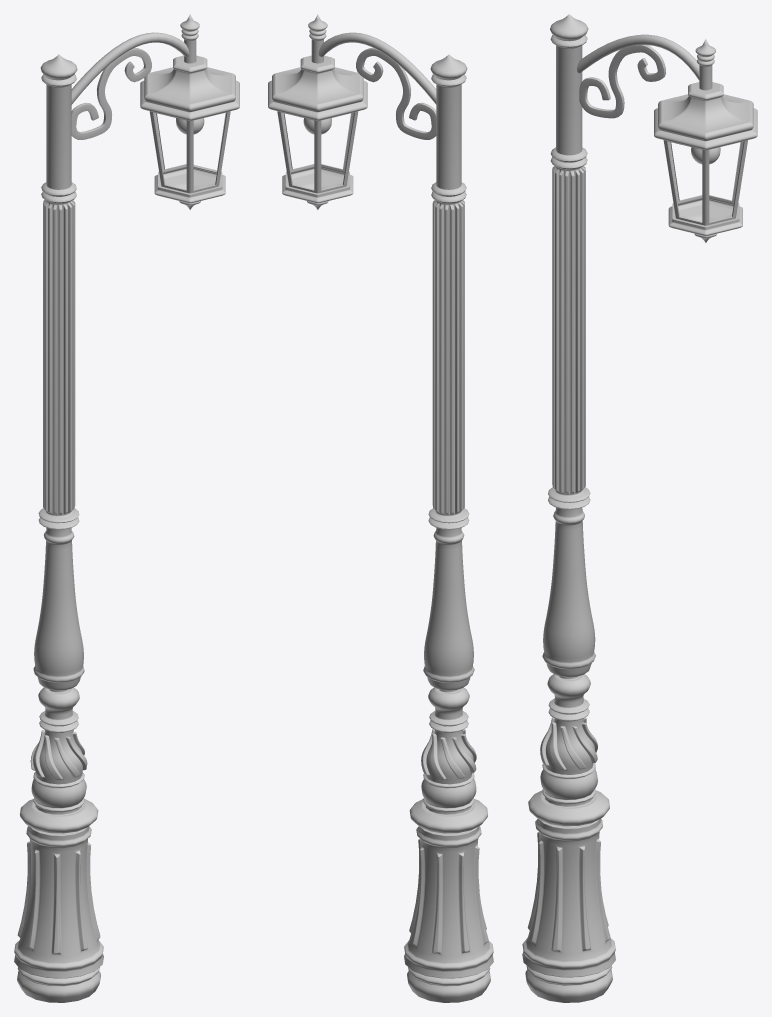
Rendered from poste1.obj.
3 views of the same model, side by side, from view 1: azimuth 30°, elevation 25°; view 2: azimuth 150°, elevation 25°; view 3: azimuth 330°, elevation 25° (orthographic). The views are drawn at different scales.
Parts seen in each view (by area): view 1: example; view 2: example; view 3: example.
Part boxes in pixels (x1,y1,x2,y2): example: [14, 14, 239, 1002]; example: [268, 14, 493, 1002]; example: [522, 14, 757, 1002].
Size of the model in its own units: 39.6 by 162 by 15.53.
